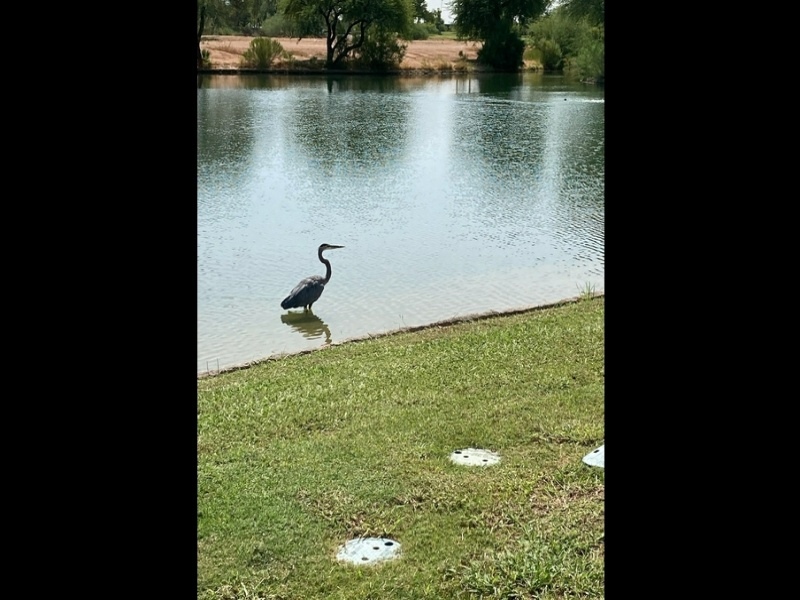heron: (282, 240, 344, 313)
